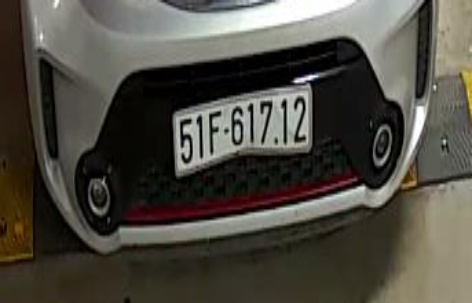plate: (169, 87, 324, 172)
